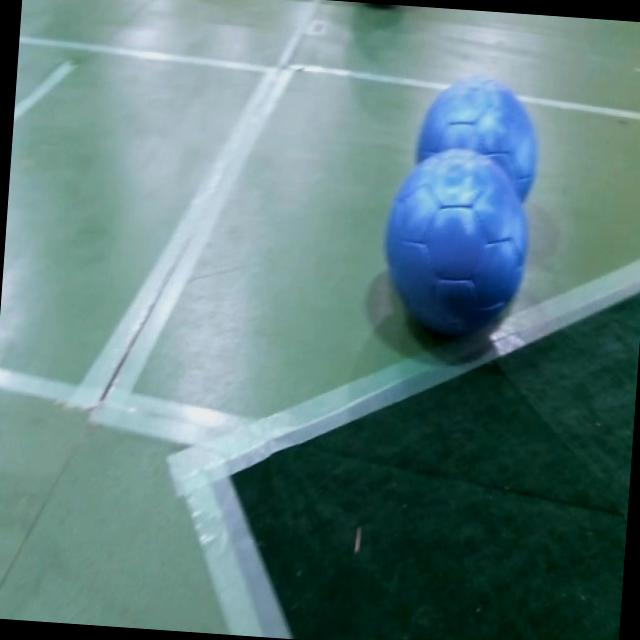blue_ball: (381, 150, 535, 350), (411, 70, 542, 210)
